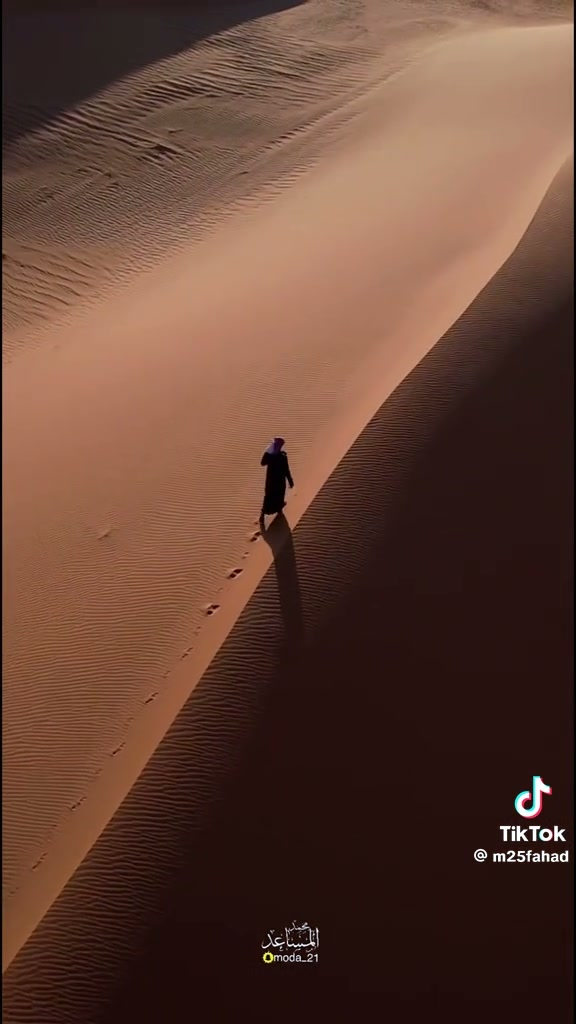human_footprint: (200, 595, 230, 624), (235, 533, 267, 556), (215, 566, 252, 584)
